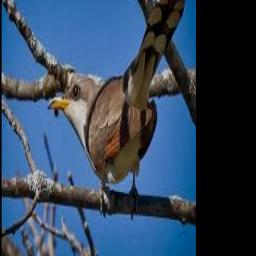Cuckoo: (47, 0, 185, 197)
